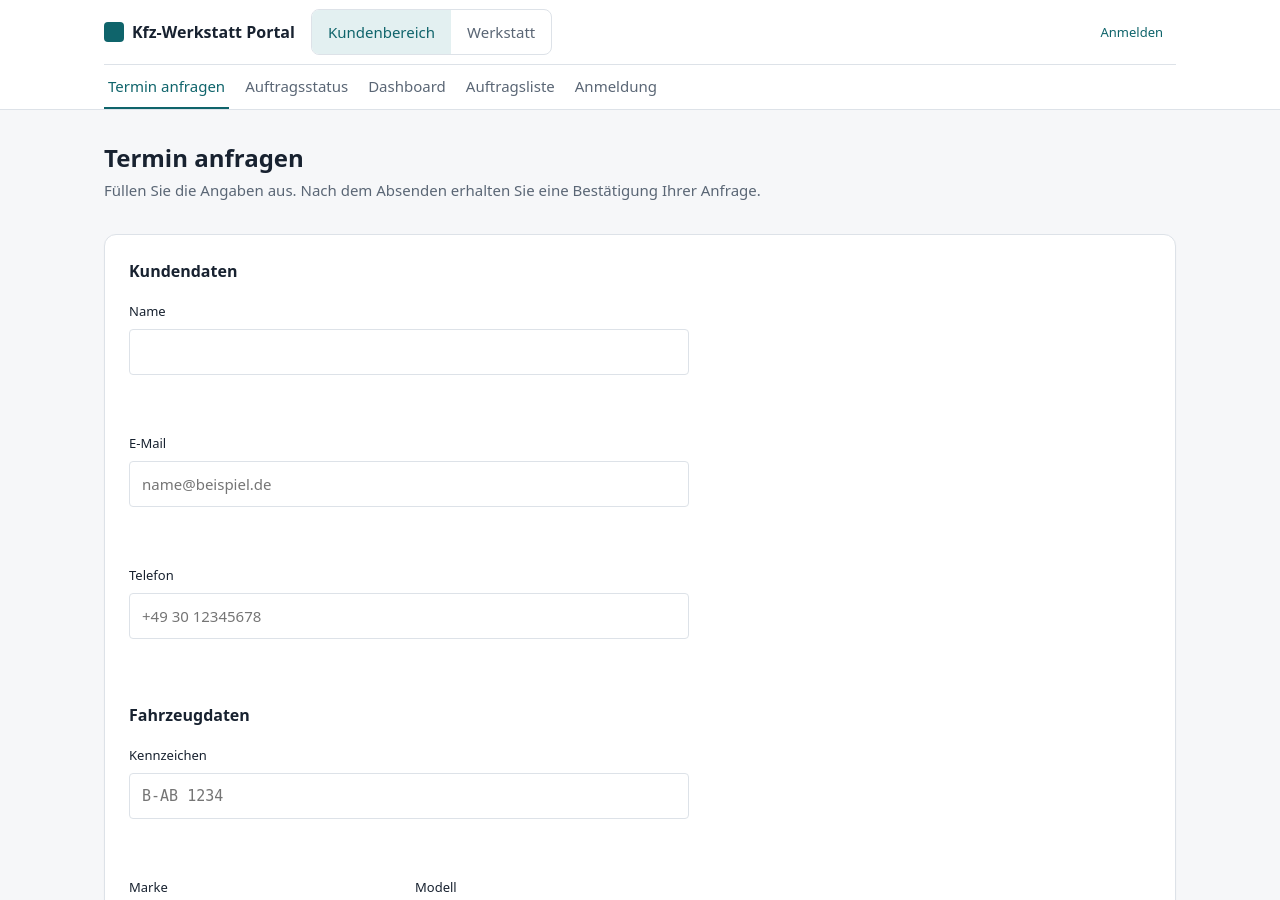
it: area switch › sends a visitor without a session from the customer area to the workshop login when Werkstatt is clicked
Click the link "Werkstatt" at coordinates (501, 32), box top-left (467, 22), bottom-right (535, 42)
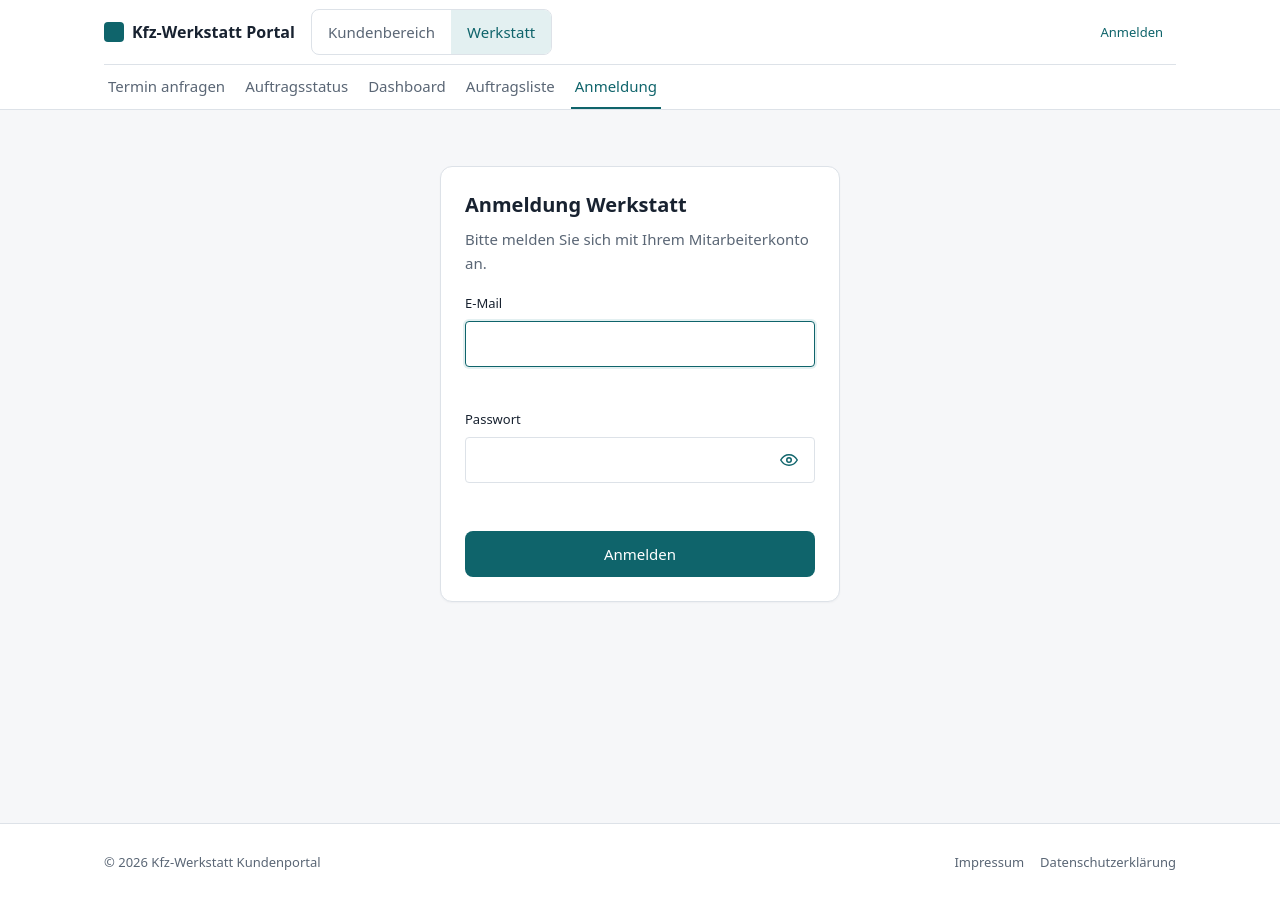
Check: the heading "Anmeldung Werkstatt" is shown, box top-left (465, 191), bottom-right (687, 218)
